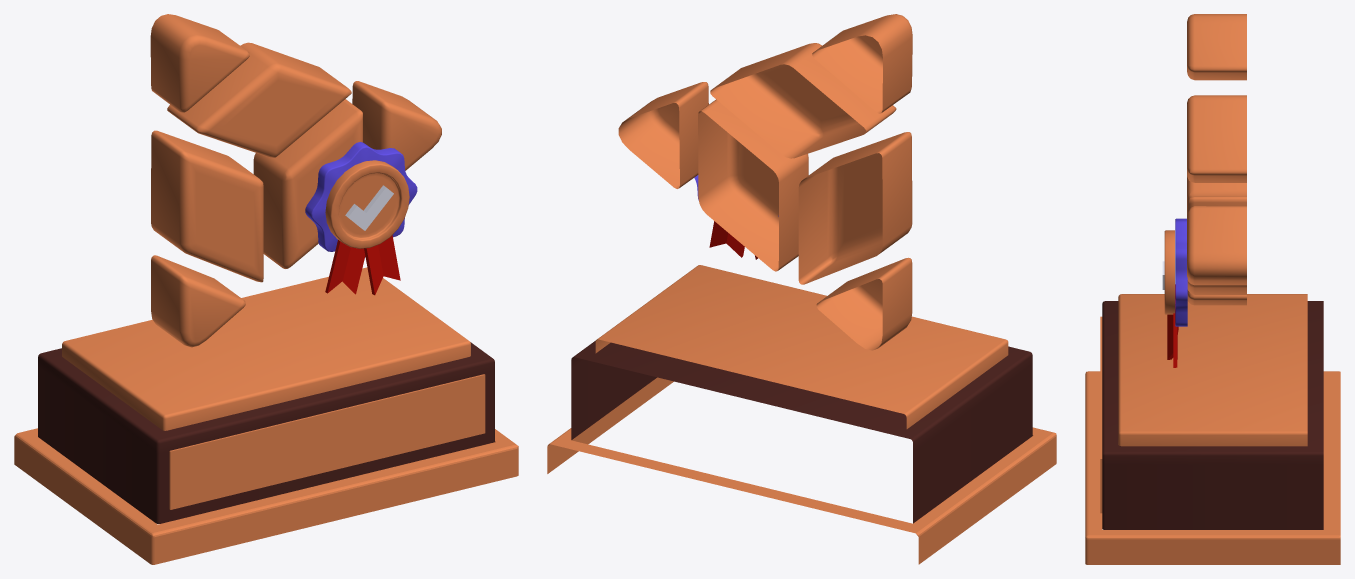
File: trophy.glb
The picture shows the model from 3 angles, left to right: view 1: azimuth 30°, elevation 25°; view 2: azimuth 150°, elevation 25°; view 3: azimuth 270°, elevation 25°; orthographic projection. The views are drawn at different scales.
Parts seen in each view (by area): view 1: goldLogo, goldBase.001, goldBase, goldPlate, Plane, Plane.001, Plane.002, goldBadge, Circle, Plane.006, Plane.005; view 2: goldLogo, goldBase.001, goldBase, Plane, Plane.001, Plane.002; view 3: goldBase.001, goldLogo, goldBase, Plane.001, Plane, Plane.002, Circle, goldBadge, Plane.006, goldPlate.001.
Boxes of the visible parts, x1,y1,x2,y2 form: goldLogo: (150, 14, 441, 347); goldBase.001: (62, 267, 470, 430); goldBase: (14, 428, 518, 564); goldPlate: (169, 375, 485, 509); Plane: (38, 342, 494, 453); Plane.001: (38, 366, 494, 511); Plane.002: (38, 425, 494, 523); goldBadge: (325, 160, 409, 248); Circle: (305, 142, 417, 257); Plane.006: (325, 235, 400, 295); Plane.005: (345, 185, 393, 230); goldLogo: (618, 14, 912, 350); goldBase.001: (595, 265, 1008, 428); goldBase: (547, 377, 1056, 564); Plane: (571, 341, 1032, 451); Plane.001: (571, 359, 1032, 510); Plane.002: (571, 374, 1032, 523); goldBase.001: (1118, 294, 1307, 446); goldLogo: (1187, 14, 1246, 305); goldBase: (1085, 371, 1340, 564); Plane.001: (1102, 464, 1323, 518); Plane: (1102, 301, 1323, 464); Plane.002: (1102, 518, 1323, 529); Circle: (1175, 218, 1187, 326); goldBadge: (1164, 230, 1174, 314); Plane.006: (1167, 284, 1178, 367); goldPlate.001: (1100, 316, 1102, 458).
Size of the model in its own units: 2.64 by 3.17 by 1.71.
